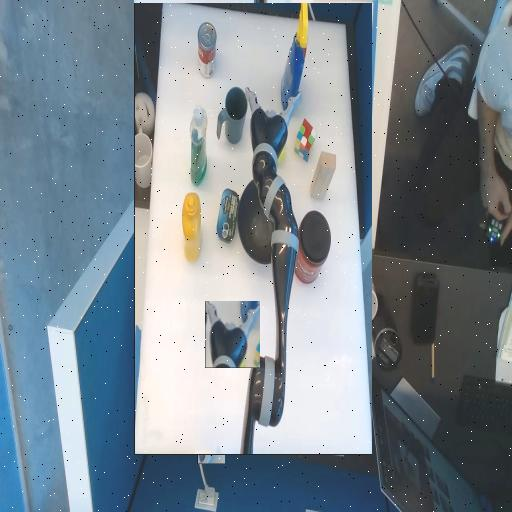bowl: (217, 210, 268, 262)
cleanser: (299, 303, 316, 319)
coffee_can: (175, 190, 214, 229)
jaco: (206, 301, 260, 368)
meat_can: (268, 214, 289, 267)
mug: (258, 326, 289, 356)
mustard_bottle: (305, 219, 324, 238)
rubik: (190, 305, 212, 327)
soup_can: (290, 379, 308, 434)
tennis_ball: (221, 300, 238, 317)
windex: (198, 345, 225, 463)
wooden_block: (171, 258, 195, 304)
workspace: (134, 3, 372, 454)
